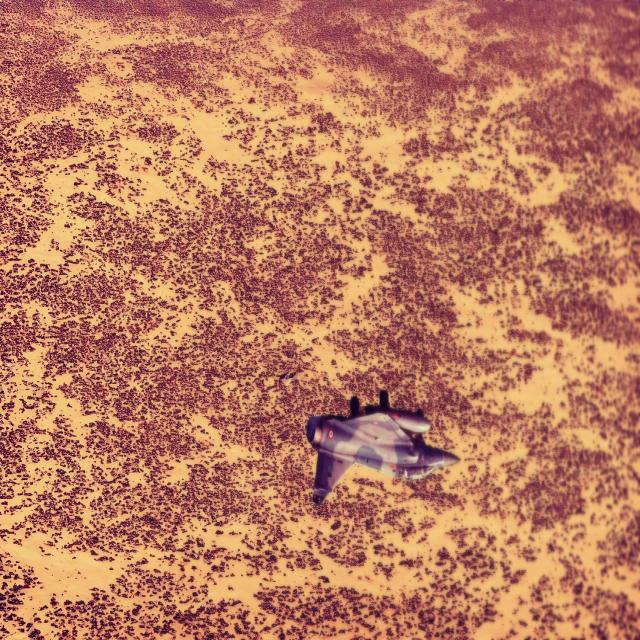airplane: (306, 388, 460, 506)
